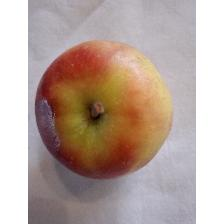Apfel: (33, 37, 176, 181)
